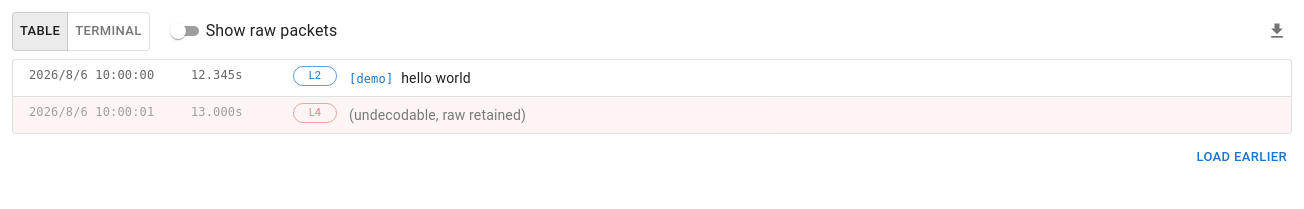
Test case: LogsView › toggling raw packets resets the cursor to the newest page
The image size is (1304, 209).
Click the button "Load earlier" at {"x": 1242, "y": 157}, box [1191, 142, 1292, 173]
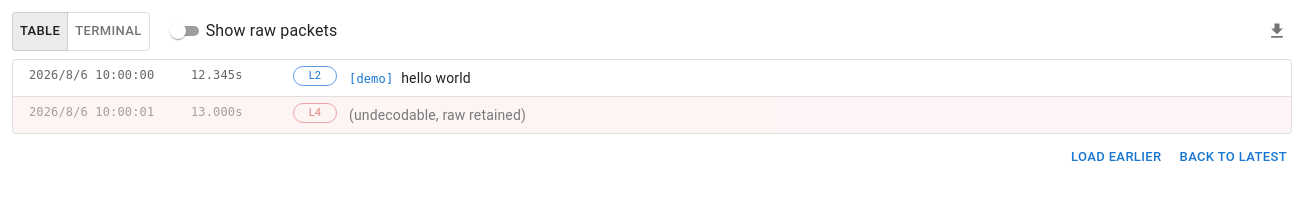
Click the switch at {"x": 252, "y": 31}, box [166, 19, 337, 43]
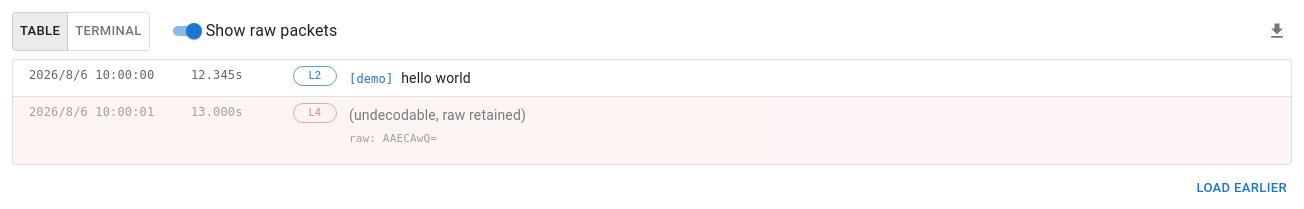
Result: the button "Back to latest" is gone
